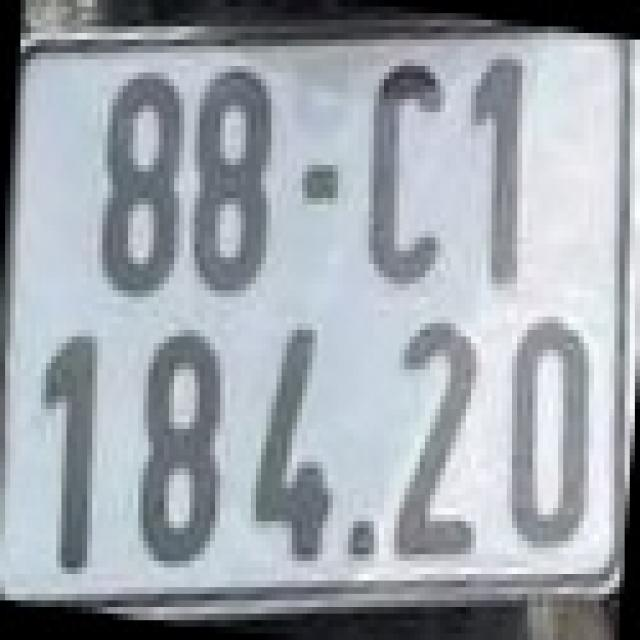0: (507, 310, 594, 548)
1: (36, 330, 102, 574), (466, 46, 532, 284)
2: (389, 310, 481, 561)
4: (251, 317, 338, 561)
8: (133, 323, 225, 568), (190, 59, 276, 297), (98, 66, 184, 297)
C: (364, 52, 451, 284)
